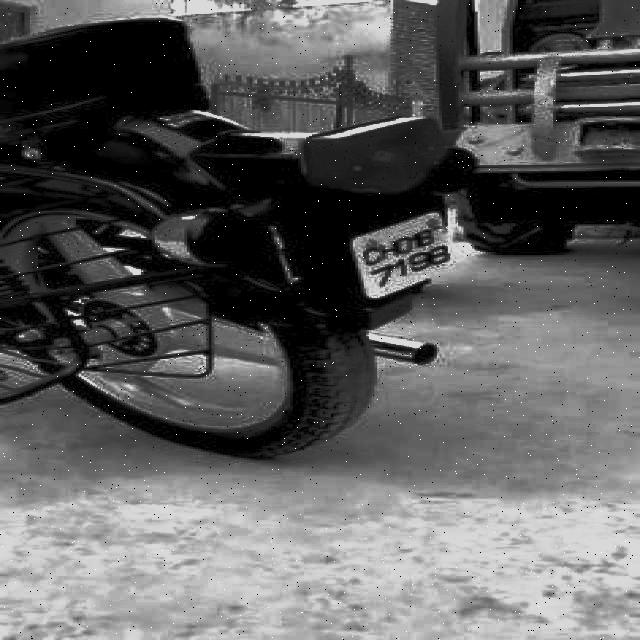Bike: (0, 0, 518, 519)
